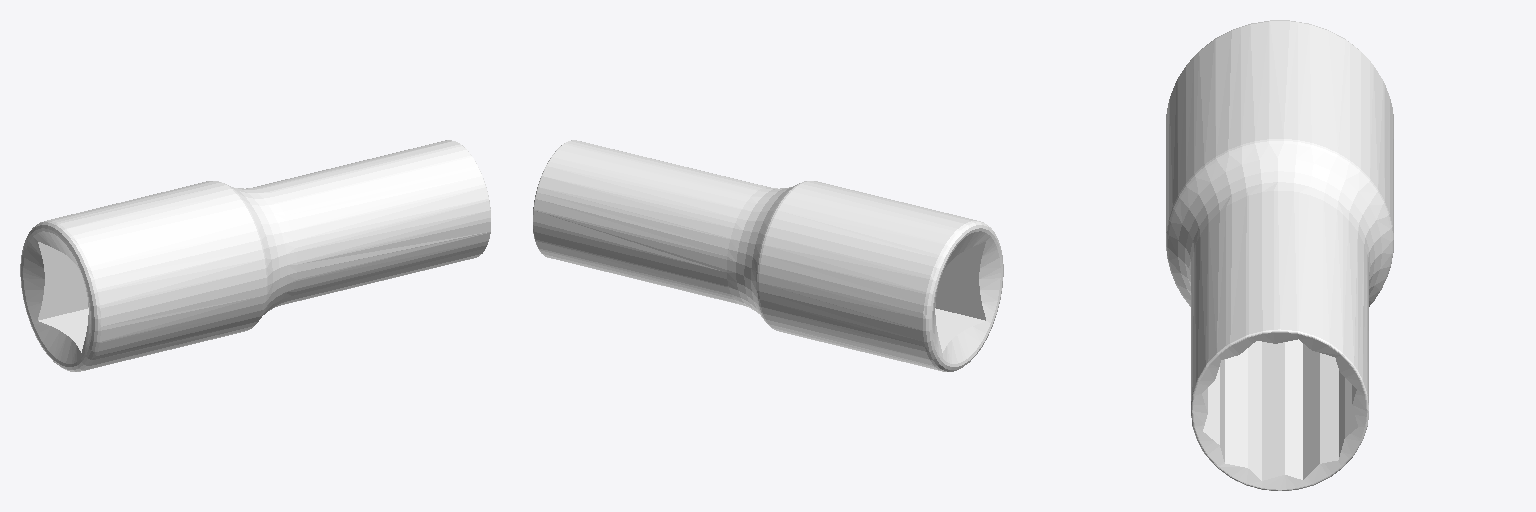
The robot description file, URDF, robot "M10_sleeve":
<?xml version="1.0" encoding="utf-8"?>
<!-- This URDF was automatically created by SolidWorks to URDF Exporter! Originally created by [author] ([email redacted]) 
     Commit Version: 1.6.0-4-g7f85cfe  Build Version: 1.6.7995.38578
     For more information, please see http://wiki.ros.org/sw_urdf_exporter -->
<robot
  name="M10_sleeve">
  <link
    name="M10_sleeve_base_link">
    <inertial>
      <origin
        xyz="-0.00036727 2.0383E-17 -3.5432E-16"
        rpy="0 0 0" />
      <mass
        value="0.010807" />
      <inertia
        ixx="9.0447E-07"
        ixy="-5.476E-21"
        ixz="9.2286E-20"
        iyy="3.7372E-06"
        iyz="2.1176E-22"
        izz="3.7372E-06" />
    </inertial>
    <visual>
      <origin
        xyz="0 0 0"
        rpy="0 0 0" />
      <geometry>
        <mesh
          filename="package://M10_sleeve/meshes/M10_sleeve_base_link.dae" />
      </geometry>
      <material
        name="">
        <color
          rgba="1 1 1 1" />
      </material>
    </visual>
    <collision>
      <origin
        xyz="0 0 0"
        rpy="0 0 0" />
      <geometry>
        <mesh
          filename="package://M10_sleeve/meshes/M10_sleeve_base_link.dae" />
      </geometry>
    </collision>
  </link>
</robot>

--- Facts derived from the render (not from the file) ---
Views: 3 orthographic renders of the robot side by side, from view 1: azimuth 30°, elevation 25°; view 2: azimuth 150°, elevation 25°; view 3: azimuth 270°, elevation 25°.
Robot: M10_sleeve — 1 links, 0 joints (none); root link M10_sleeve_base_link; default pose: every joint at zero.
Links seen in each view (by area): view 1: M10_sleeve_base_link; view 2: M10_sleeve_base_link; view 3: M10_sleeve_base_link.
Boxes of the visible links, x1,y1,x2,y2 form: M10_sleeve_base_link: (20, 140, 490, 371); M10_sleeve_base_link: (533, 140, 1003, 371); M10_sleeve_base_link: (1166, 20, 1393, 490).
Size in the robot's own frame: 0.0694 by 0.023 by 0.023 metres.
1 mesh visuals loaded from 1 distinct referenced files (1 Collada DAE).